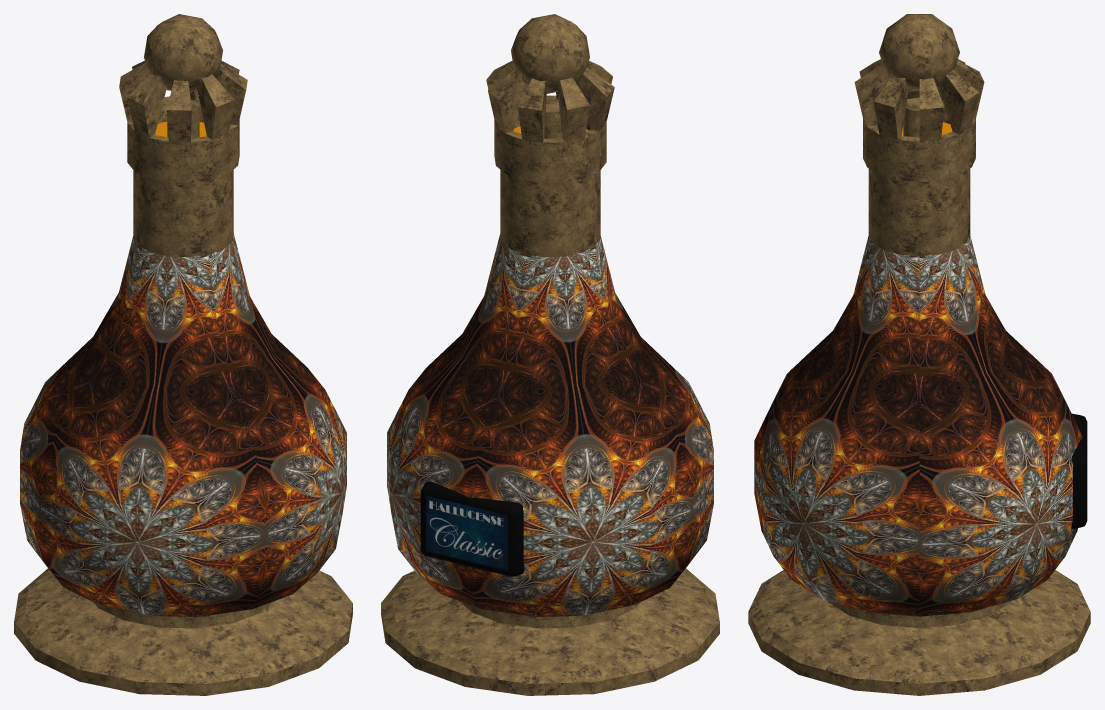
File: hallucense.fbx
3 views of the same model, side by side, from view 1: azimuth 30°, elevation 25°; view 2: azimuth 150°, elevation 25°; view 3: azimuth 270°, elevation 25° (orthographic).
Visible parts, largest first — view 1: Cylinder; view 2: Cylinder; view 3: Cylinder.
Part boxes in pixels (x1,y1,x2,y2): Cylinder: (14, 14, 352, 695); Cylinder: (381, 14, 719, 695); Cylinder: (748, 14, 1090, 695).
Size of the model in its own units: 200 by 392 by 200.
4 materials, 3 textured.
